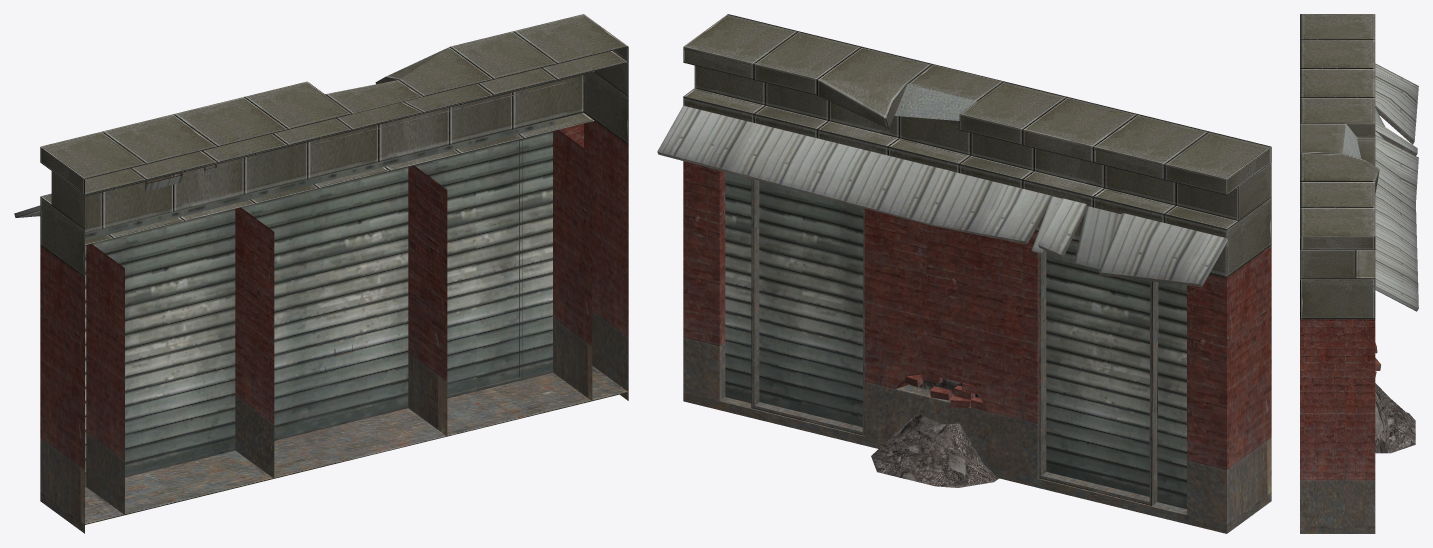
The model's file is Store_front_29.fbx.
The picture shows the model from 3 angles, left to right: view 1: azimuth 30°, elevation 25°; view 2: azimuth 150°, elevation 25°; view 3: azimuth 270°, elevation 25°; orthographic projection. The views are drawn at different scales.
Visible parts, largest first — view 1: Store_front_29; view 2: Store_front_29; view 3: Store_front_29.
Part boxes in pixels (<box>): Store_front_29: <box>14,14,628,533</box>; Store_front_29: <box>657,14,1271,533</box>; Store_front_29: <box>1300,14,1418,533</box>.
Size of the model in its own units: 700 by 436 by 158.
